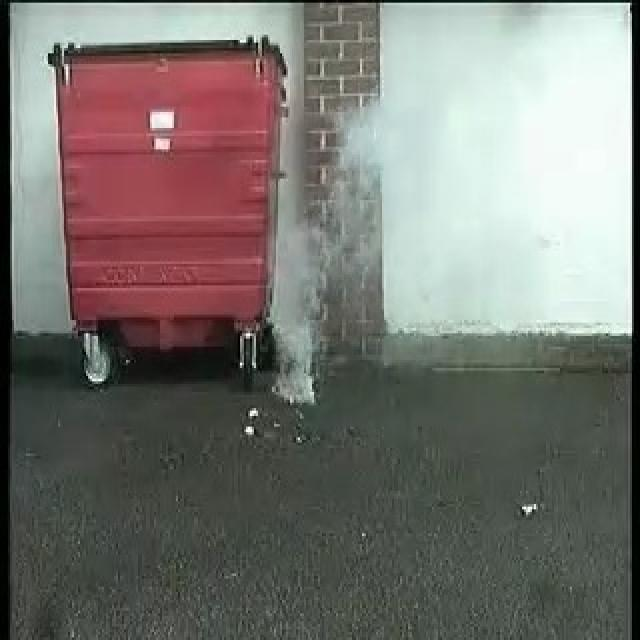smoke: (271, 106, 395, 406)
